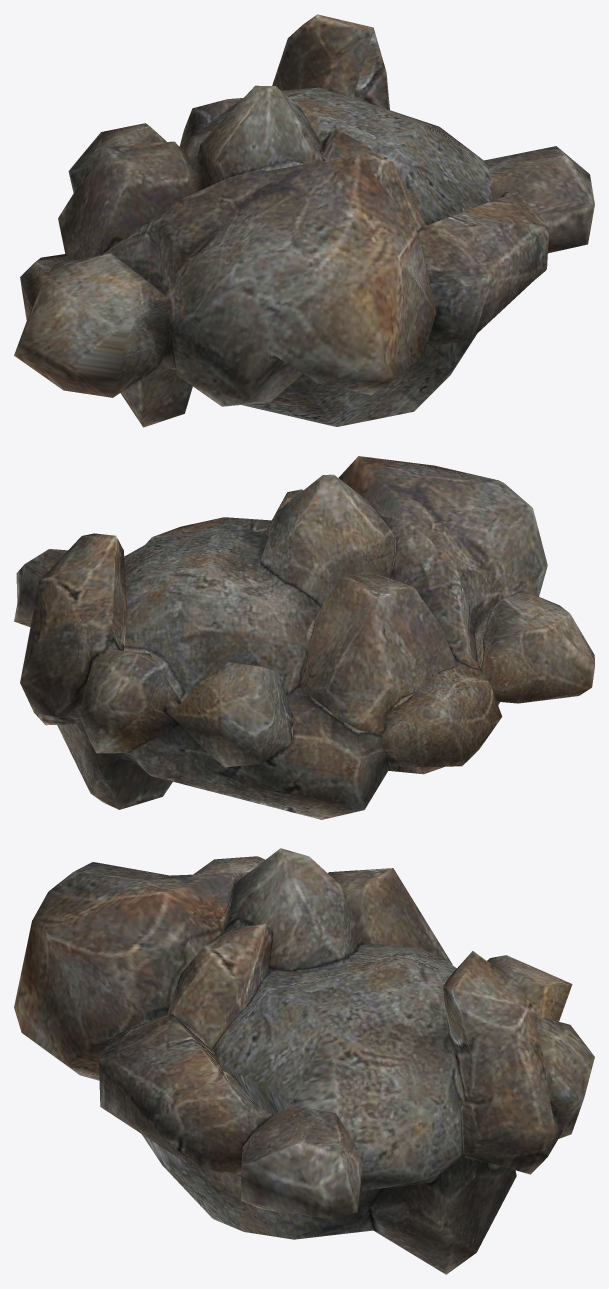
File: alp_prop_rockbig.fbx
3 renders of one model, top to bottom at view 1: azimuth 30°, elevation 25°; view 2: azimuth 150°, elevation 25°; view 3: azimuth 270°, elevation 25°, orthographic. The views are drawn at different scales.
Visible parts, largest first — view 1: alp_prop_rockBig_alps_RockSetC_LOD1; view 2: alp_prop_rockBig_alps_RockSetC_LOD1; view 3: alp_prop_rockBig_alps_RockSetC_LOD1.
Boxes of the visible parts, x1,y1,x2,y2 form: alp_prop_rockBig_alps_RockSetC_LOD1: (14, 14, 594, 427); alp_prop_rockBig_alps_RockSetC_LOD1: (14, 456, 594, 819); alp_prop_rockBig_alps_RockSetC_LOD1: (14, 848, 594, 1274).
Size of the model in its own units: 27.38 by 22.99 by 14.98.
